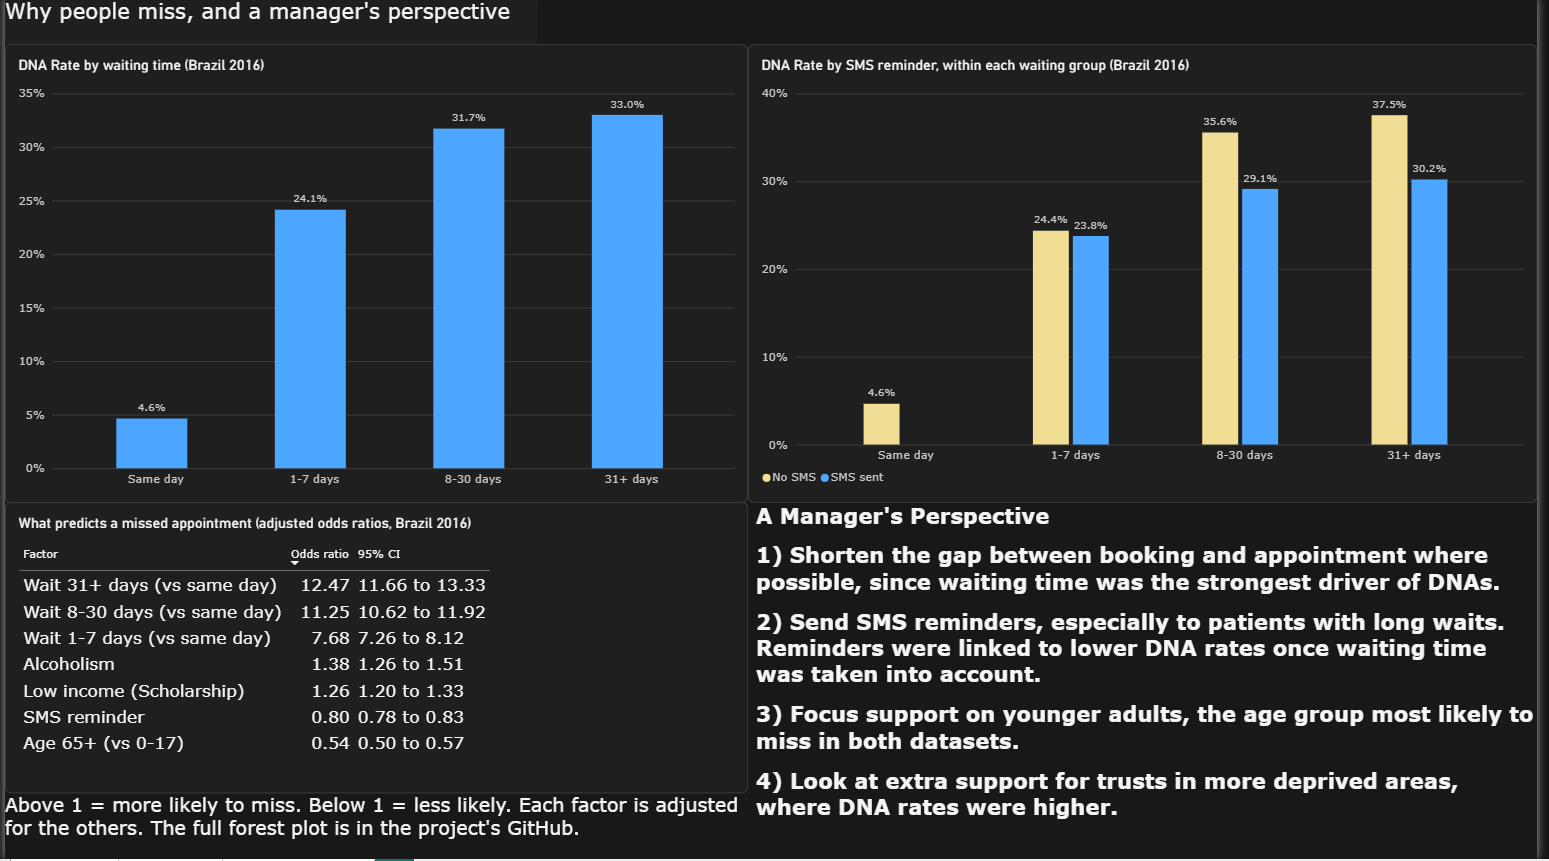

This screenshot's page, from the dashboard's own definition file:
{"tool":"powerbi","page":{"name":"Why and  what to do","canvas":[1920,1080],"ordinal":2},"visuals":[{"type":"clusteredColumnChart","title":"DNA Rate by waiting time (Brazil 2016)","fields":{"Category":["appointments.WaitGroup"],"Y":["appointments.Patient DNA Rate"]},"box":[0,58.5,931,574.6],"z":0},{"type":"clusteredColumnChart","title":"DNA Rate by SMS reminder, within each waiting group (Brazil 2016)","fields":{"Category":["appointments.WaitGroup"],"Series":["appointments.SMS Status"],"Y":["appointments.Patient DNA Rate"]},"box":[930.8,58.4,989.2,574.8],"z":1},{"type":"tableEx","title":"What predicts a missed appointment (adjusted odds ratios, Brazil 2016) ","fields":{"Values":["odds_ratio.Factor","odds_ratio.Odds ratio","odds_ratio.95% CI"]},"box":[0,633.2,930.8,364.7],"z":2},{"type":"textbox","box":[0,997.9,930.8,81.7],"z":3},{"type":"textbox","box":[941,633.2,979,446.4],"z":5},{"type":"textbox","box":[0,0,667.7,58.5],"z":6}]}

Visuals, with their boxes in screenshot pixels (x1, y1, x2, y2), scaled from the page's 1920x1080 canvas onto the 1549x861 screenshot:
"DNA Rate by waiting time (Brazil 2016)" clusteredColumnChart: [0,47,751,505]
"DNA Rate by SMS reminder, within each waiting group (Brazil 2016)" clusteredColumnChart: [751,47,1548,505]
"What predicts a missed appointment (adjusted odds ratios, Brazil 2016) " tableEx: [0,505,751,796]
textbox: [0,796,751,860]
textbox: [759,505,1548,860]
textbox: [0,0,539,47]
